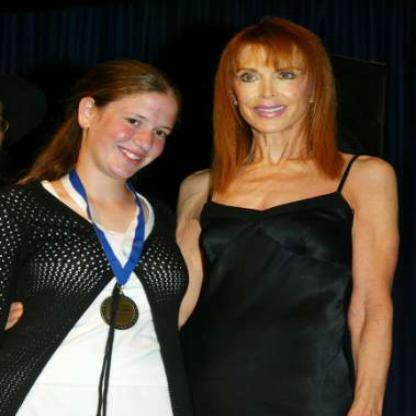face: (95, 71, 184, 182), (231, 23, 319, 135)
